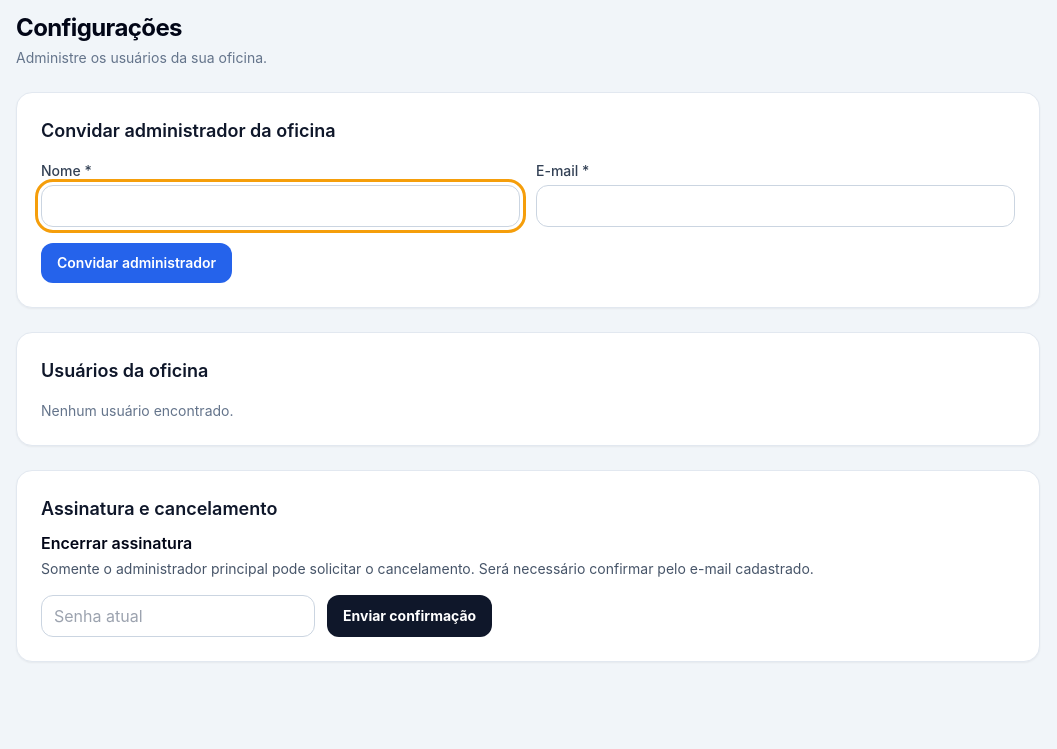
Test: Organization User settings › requests subscription cancellation from settings
In the password field named "Senha atual para cancelar": (178, 616) [41,595,315,637], type "a-secure-password"
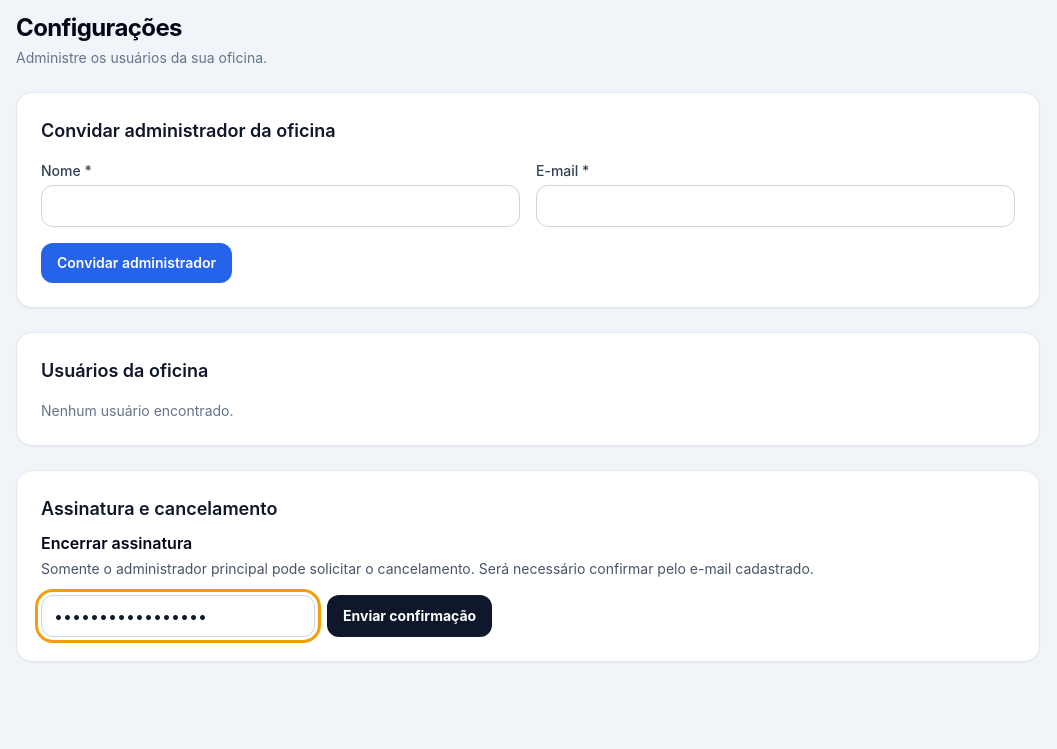
Click the button "Enviar confirmação": click(410, 616) [327,595,492,637]
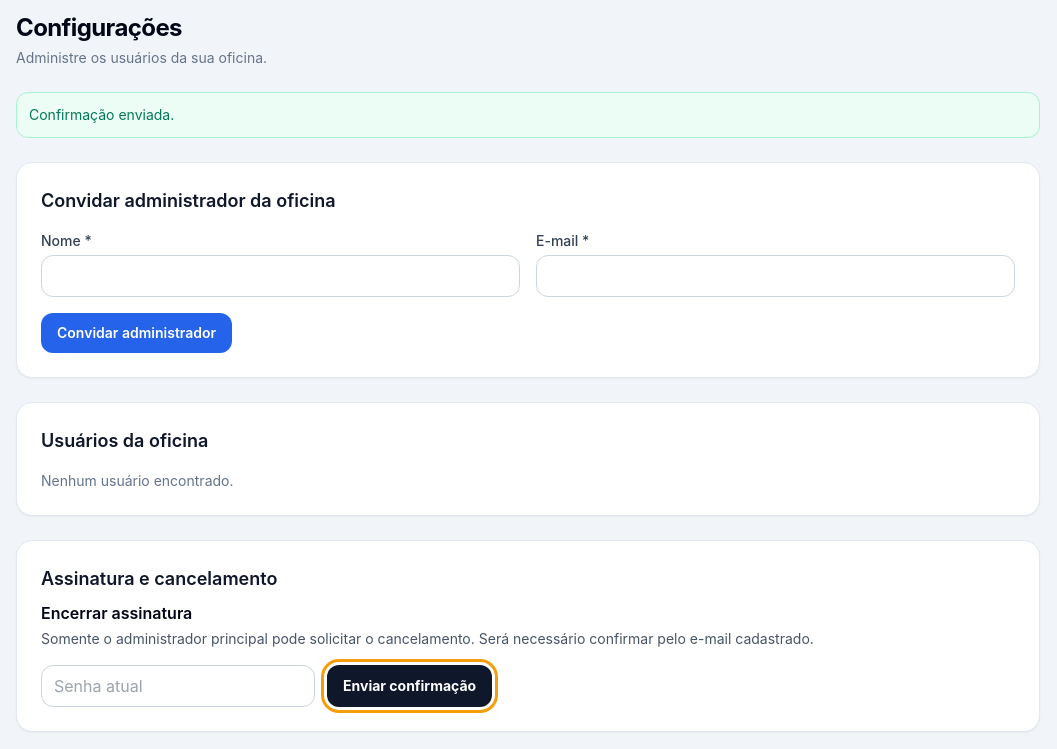
Result: the message reads "Confirmação enviada." at [29,106,174,123]
